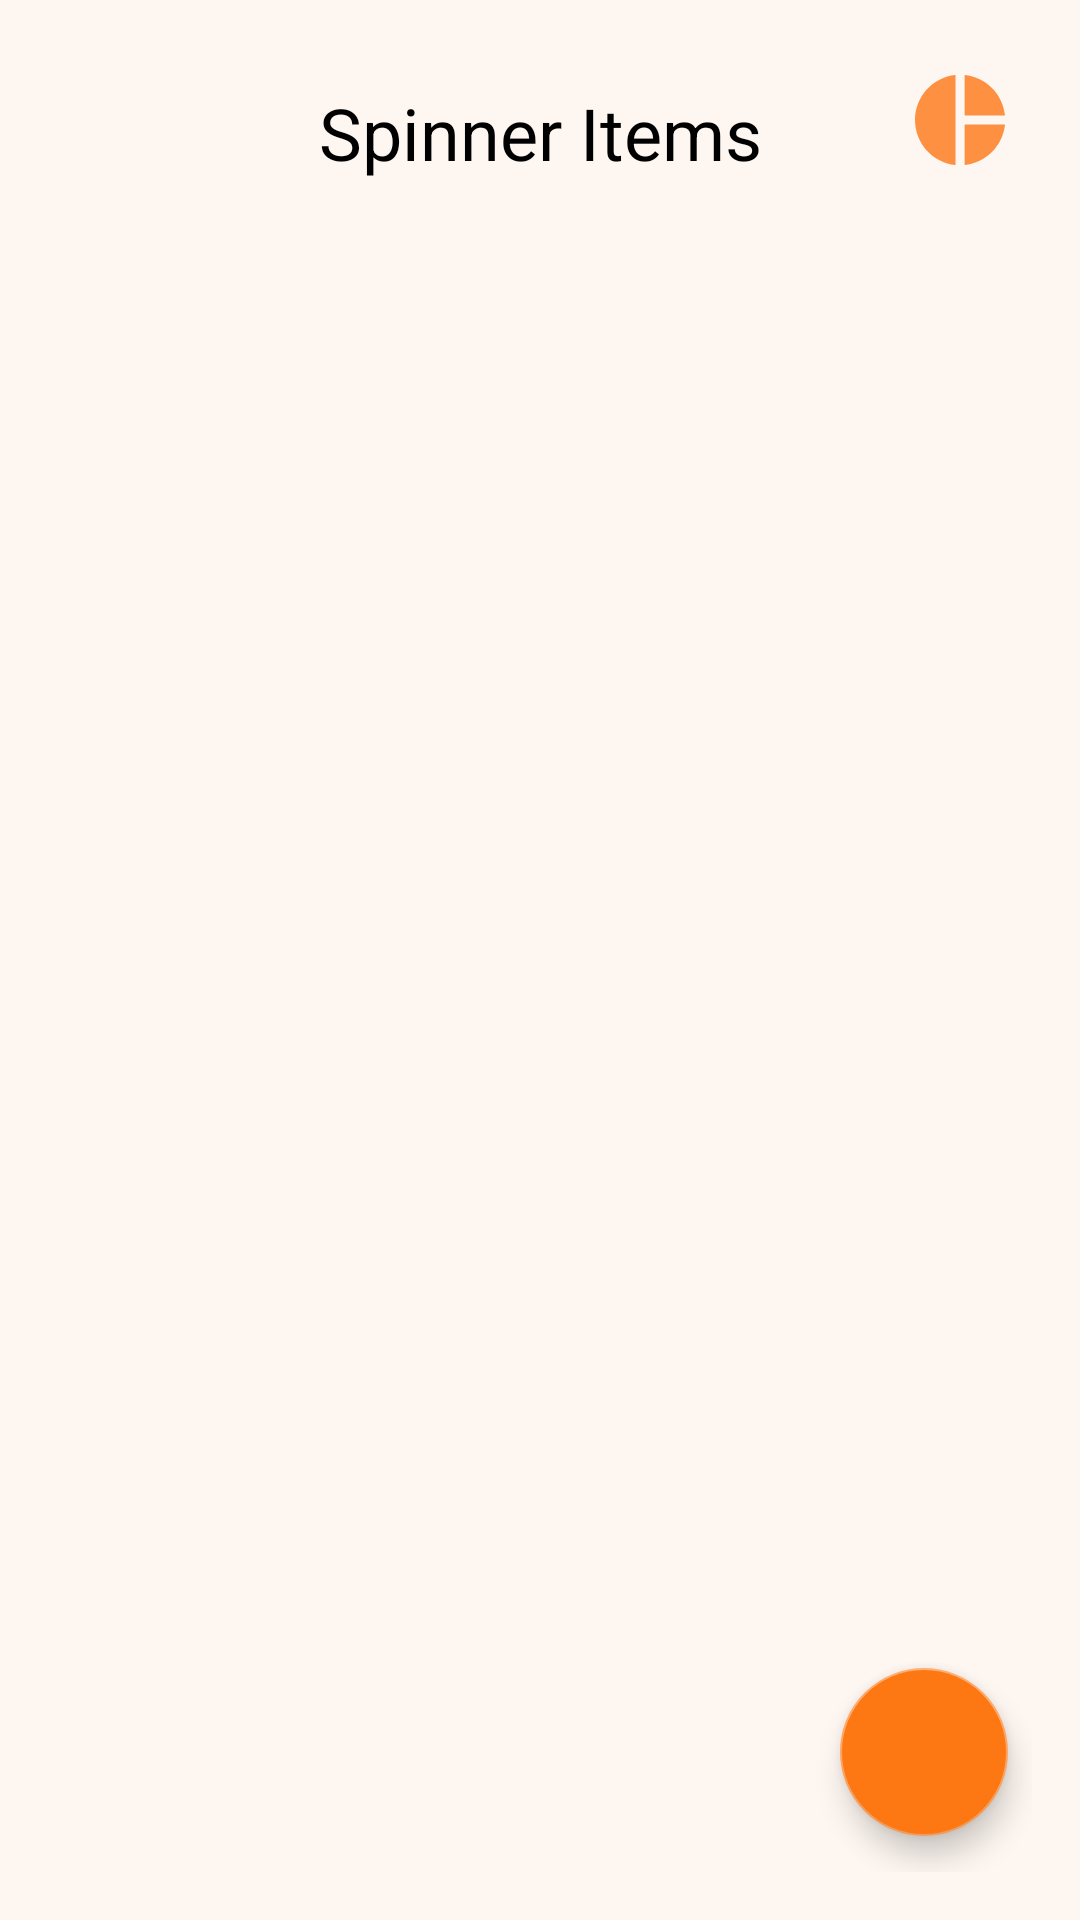

Point at icon controls on the screen. Image size 1080w x 1920h, points as [x,y].
spinner wheel: [960,120]
